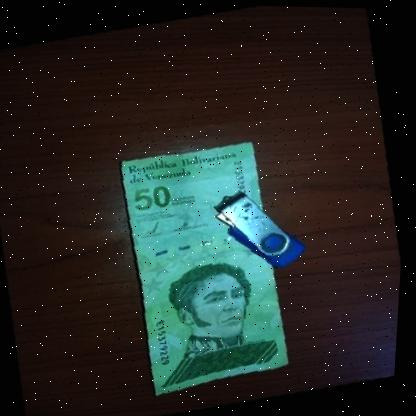fifty-front-vef: (99, 126, 313, 398)
